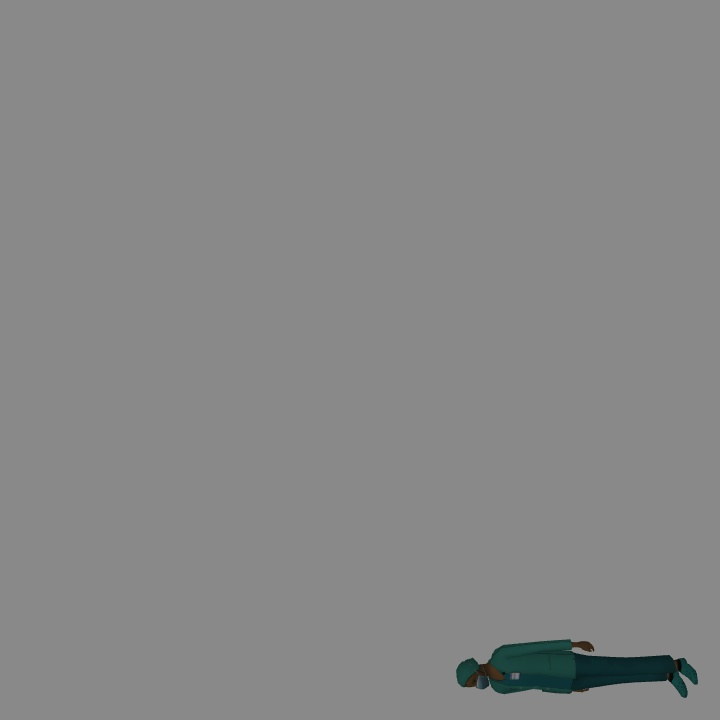victim: (460, 639, 700, 700)
